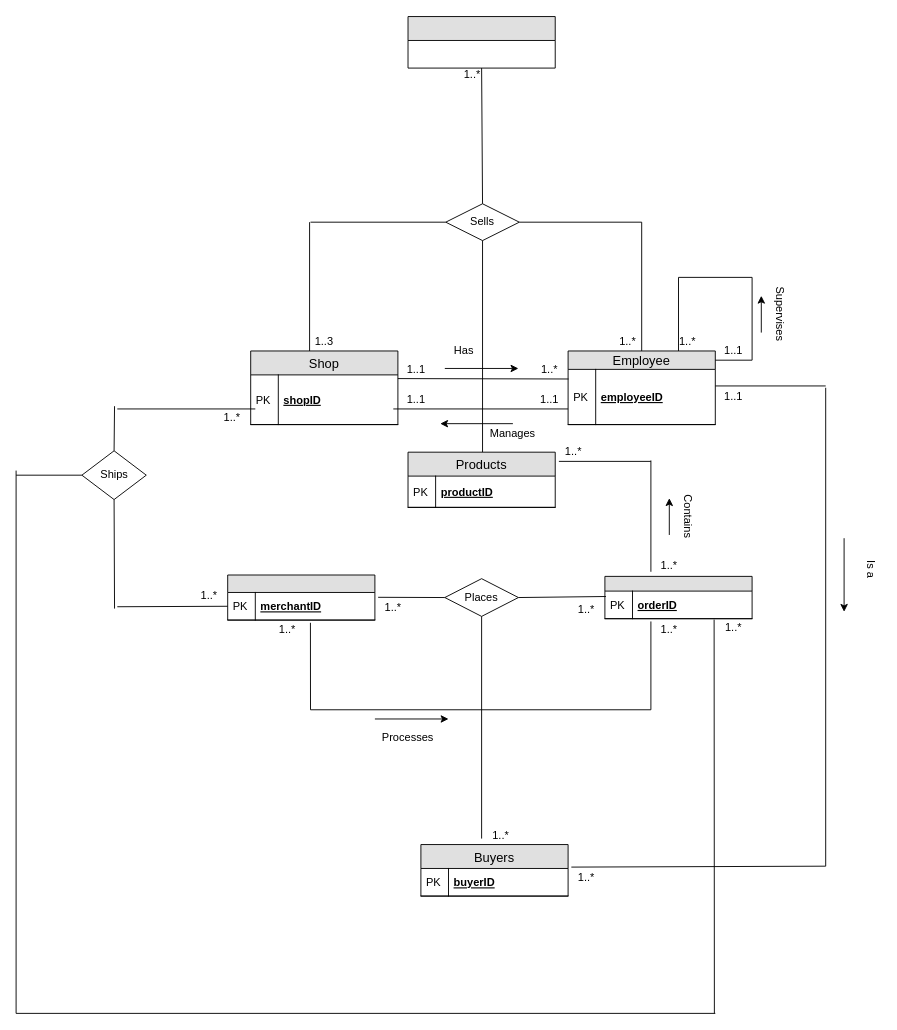
The diagram is 897 pixels wide and 1030 high, and some of its shapes have lost their labels. The box of each missing label's shape, as (x1, y1, x2, y2) in pixels:
Customer: (407, 16, 555, 68)
Merchants: (227, 574, 375, 620)
Orders: (604, 575, 752, 619)
